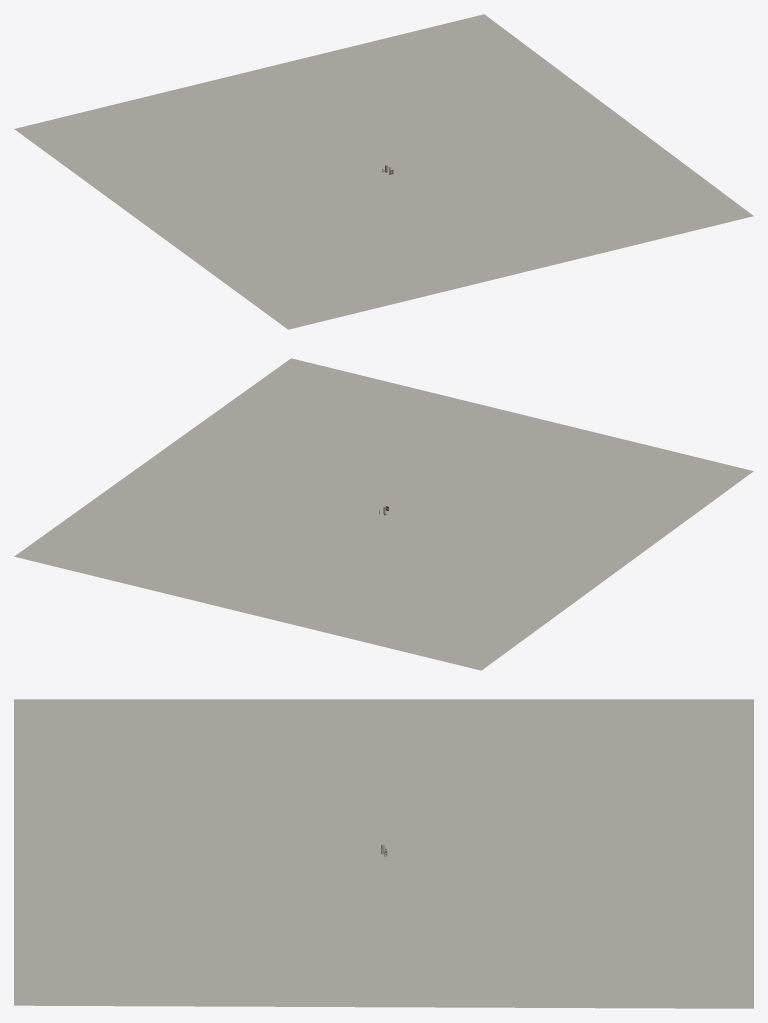
Rendered from ShadowsTest.obj.
3 renders of one model, top to bottom at view 1: azimuth 30°, elevation 25°; view 2: azimuth 150°, elevation 25°; view 3: azimuth 270°, elevation 25°, orthographic. The views are drawn at different scales.
Visible parts, largest first — view 1: Plane; view 2: Plane; view 3: Plane.
Part boxes in pixels (x1,y1,x2,y2): Plane: [14, 14, 753, 329]; Plane: [14, 358, 753, 670]; Plane: [14, 699, 753, 1008].
Size of the model in its own units: 603 by 9.8 by 609.
Materials: 4 (1 with a texture image).
